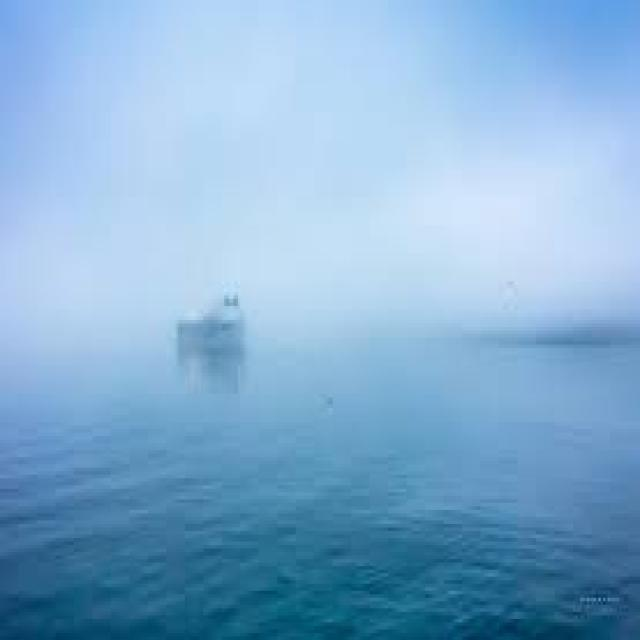cargoship: (164, 272, 250, 359)
